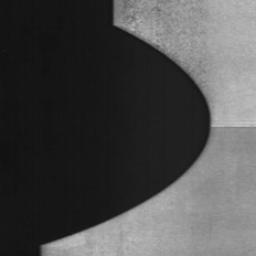Crescent gap: (44, 25, 211, 245)
